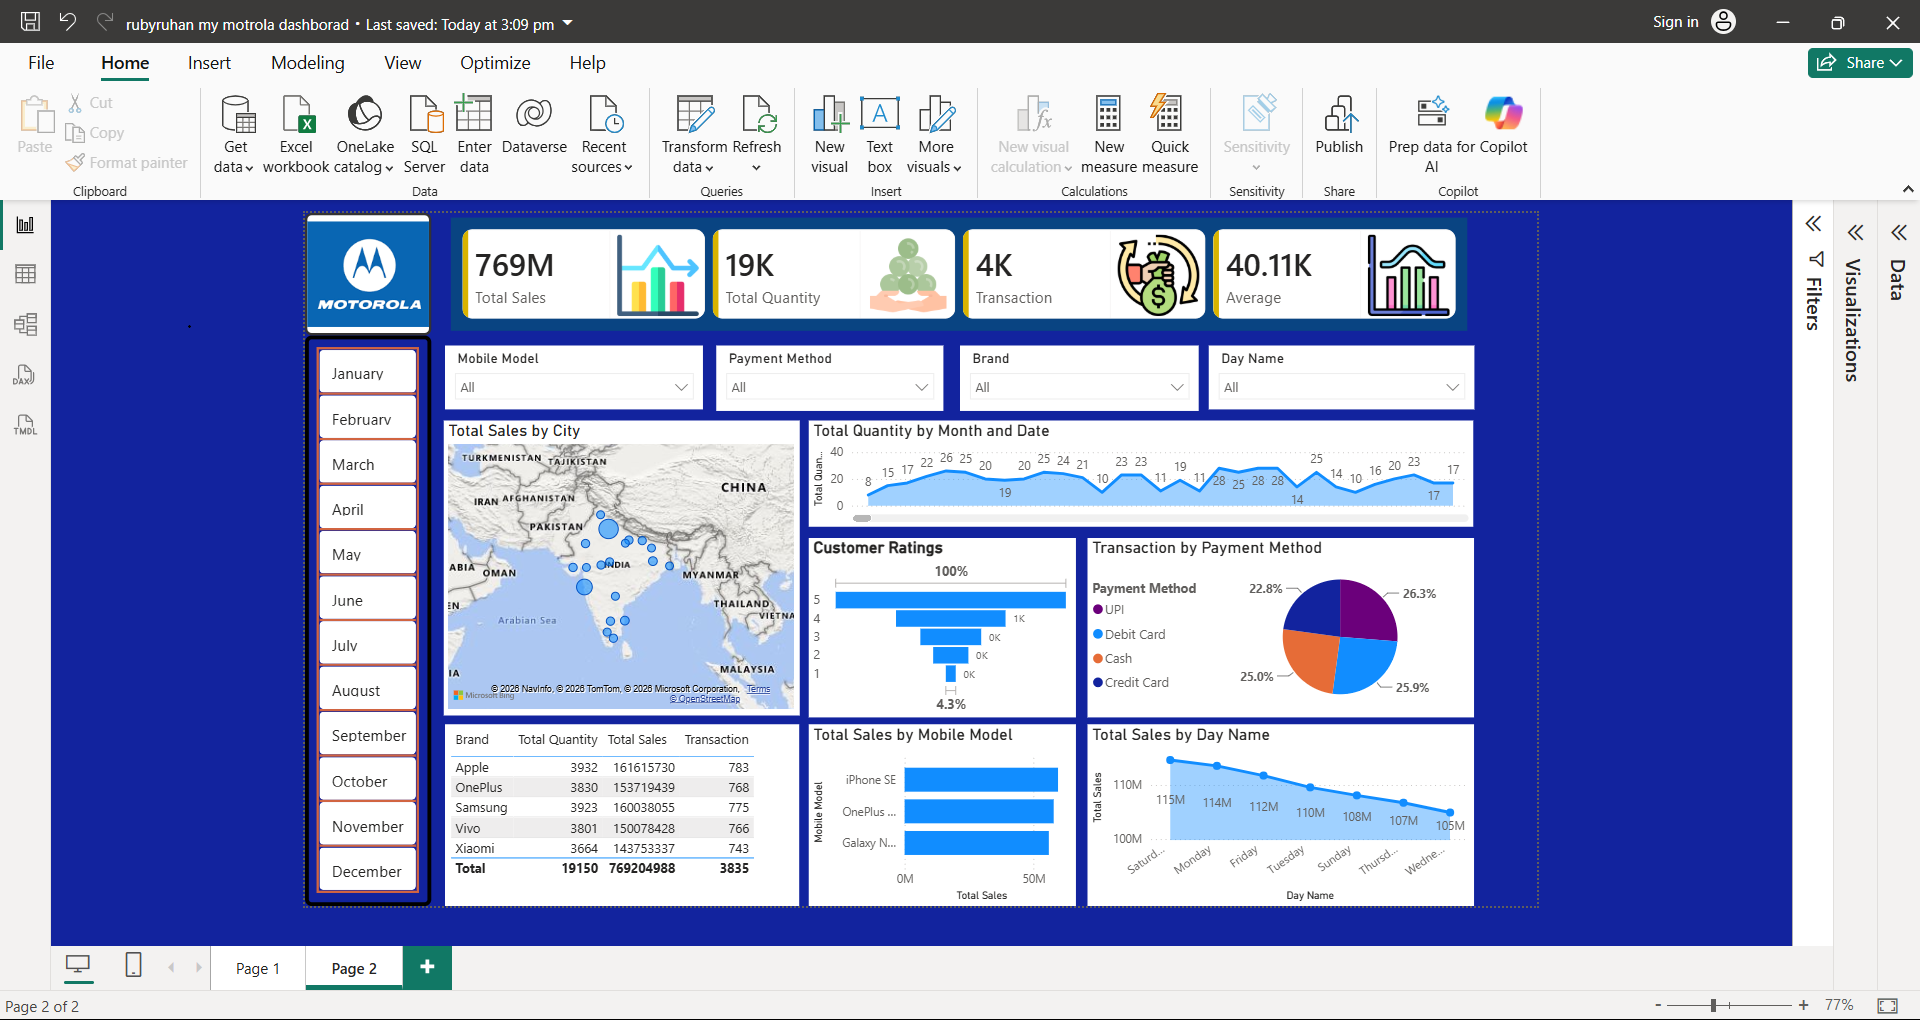

The dashboard page shown, as its layout file describes it:
{"tool":"powerbi","page":{"name":"Page 2","canvas":[1280,720],"ordinal":1},"visuals":[{"type":"advancedSlicerVisual","fields":{"Values":["Sales Data.Date.Variation.Date Hierarchy.Month"]},"box":[0,127.2,149.2,593.1],"z":0},{"type":"cardVisual","fields":{"Data":["Sales Data.Total Sales","Sales Data.Total Quantity","Sales Data.Transaction","Sales Data.Average"]},"box":[160.2,0,1120.1,127.2],"z":1000},{"type":"map","fields":{"Category":["Sales Data.City"],"Size":["Sales Data.Total Sales"]},"box":[160.2,220.1,392.5,304.5],"z":2000},{"type":"lineChart","fields":{"Category":["Sales Data.Date.Variation.Date Hierarchy.Month","Sales Data.Date Hierarchy 2.Date"],"Y":["Sales Data.Total Quantity"]},"box":[561.3,216.4,719,110.1],"z":3000},{"type":"clusteredBarChart","fields":{"Category":["Sales Data.Mobile Model"],"Y":["Sales Data.Total Sales"]},"box":[561.3,530.7,289.8,189.5],"z":4000},{"type":"pieChart","fields":{"Y":["Sales Data.Transaction"],"Category":["Sales Data.Payment Method"]},"box":[862.1,337.5,418.2,187.1],"z":5000},{"type":"funnel","title":" Customer Ratings ","fields":{"Category":["Sales Data.Customer Ratings"],"Y":["Sum(Sales Data.Customer Ratings)"]},"box":[561.3,337.5,289.8,187.1],"z":6000},{"type":"stackedAreaChart","fields":{"Category":["Sales Data.Day Name"],"Y":["Sales Data.Total Sales"]},"box":[862.1,530.7,418.2,189.5],"z":7000},{"type":"tableEx","fields":{"Values":["Sales Data.Brand","Sales Data.Total Quantity","Sales Data.Total Sales","Sales Data.Transaction"]},"box":[160.2,530.7,392.5,189.5],"z":8000},{"type":"slicer","fields":{"Values":["Sales Data.Mobile Model"]},"box":[160.2,135.7,284.9,67.3],"z":9000},{"type":"slicer","fields":{"Values":["Sales Data.Payment Method"]},"box":[453.7,135.7,254.3,68.5],"z":10000},{"type":"slicer","fields":{"Values":["Sales Data.Brand"]},"box":[716.6,135.7,269,68.5],"z":11000},{"type":"slicer","fields":{"Values":["Sales Data.Day Name"]},"box":[994.2,137,286.1,67.3],"z":12000},{"type":"image","box":[0,0,149.2,127.2],"z":13000}]}

Visuals, with their boxes on the page's 1280x720 design canvas (x1, y1, x2, y2). These are canvas units, not pixel positions in the 1920x1020 screenshot, which may show the page scaled, cropped or inside an application window:
advancedSlicerVisual - Sales Data.Date.Variation.Date Hierarchy.Month: [0, 127, 149, 720]
cardVisual - Sales Data.Total Sales x Sales Data.Total Quantity: [160, 0, 1280, 127]
map - Sales Data.City x Sales Data.Total Sales: [160, 220, 553, 525]
lineChart - Sales Data.Date.Variation.Date Hierarchy.Month x Sales Data.Date Hierarchy 2.Date: [561, 216, 1280, 326]
clusteredBarChart - Sales Data.Mobile Model x Sales Data.Total Sales: [561, 531, 851, 720]
pieChart - Sales Data.Transaction x Sales Data.Payment Method: [862, 338, 1280, 525]
" Customer Ratings " funnel: [561, 338, 851, 525]
stackedAreaChart - Sales Data.Day Name x Sales Data.Total Sales: [862, 531, 1280, 720]
tableEx - Sales Data.Brand x Sales Data.Total Quantity: [160, 531, 553, 720]
slicer - Sales Data.Mobile Model: [160, 136, 445, 203]
slicer - Sales Data.Payment Method: [454, 136, 708, 204]
slicer - Sales Data.Brand: [717, 136, 986, 204]
slicer - Sales Data.Day Name: [994, 137, 1280, 204]
image: [0, 0, 149, 127]
